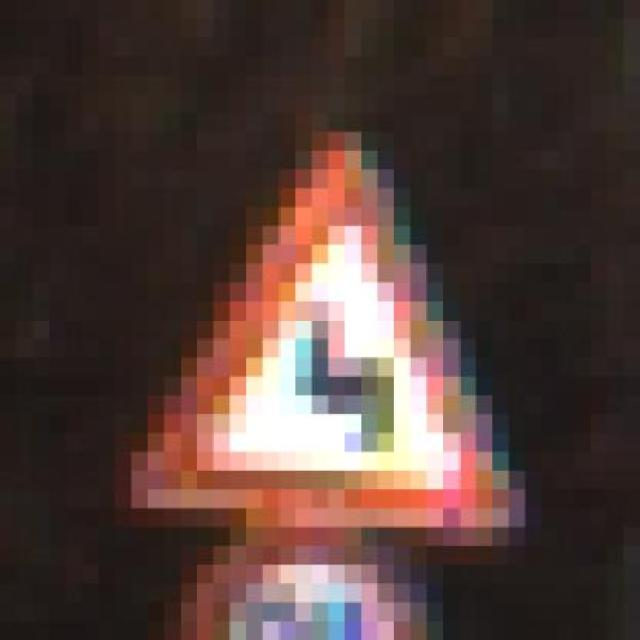Left Zig Zag Traffic: (99, 94, 542, 546)
